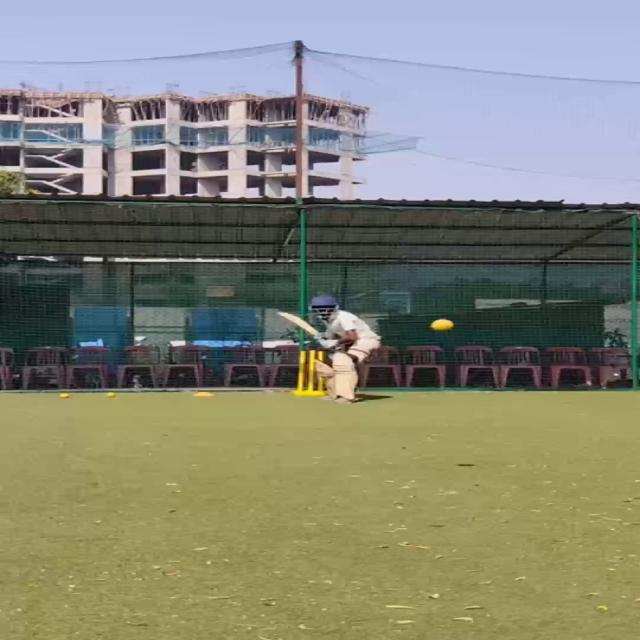ball: (428, 318, 454, 332), (53, 391, 70, 400), (102, 391, 116, 397)
stump: (295, 349, 325, 395)
